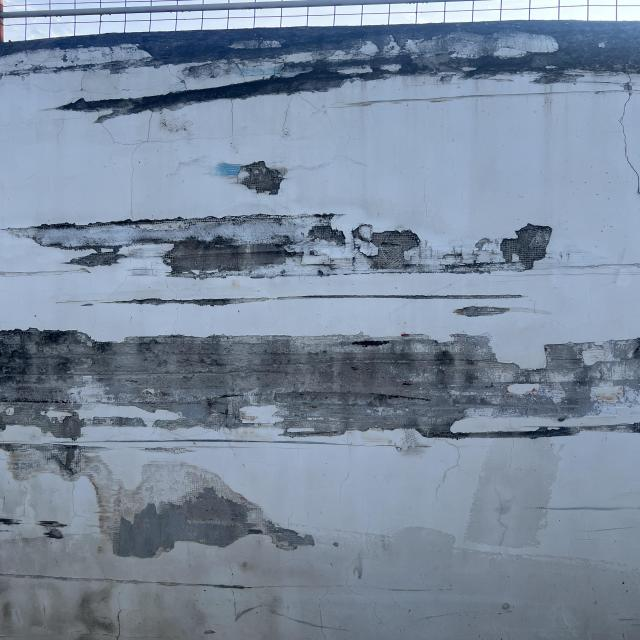crack: (0, 566, 257, 600)
damp: (460, 436, 561, 549)
spalling: (1, 330, 640, 440), (7, 21, 634, 122), (12, 211, 553, 277), (2, 445, 305, 557), (219, 159, 284, 195)
